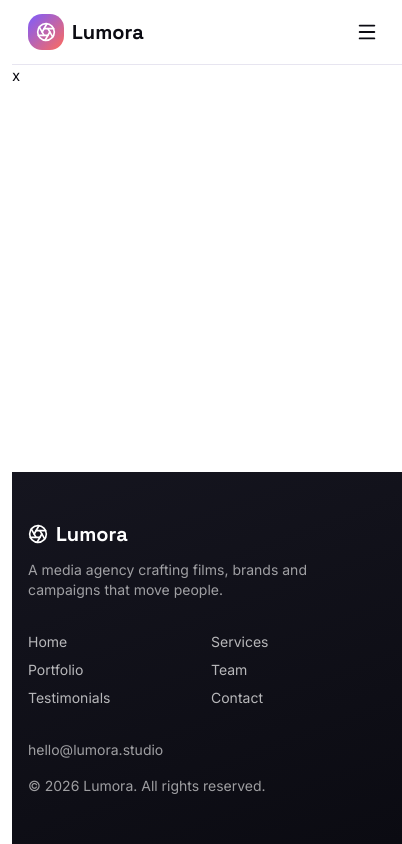
Test: AppLayout › toggles the mobile menu
Click the button named "Open menu" at (367, 32), box [348, 13, 386, 51]
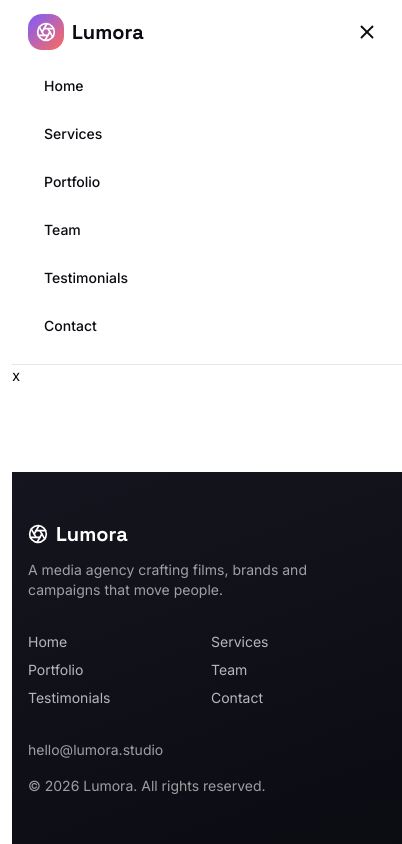
Expected: the list with test id "mobile-menu" is shown, [44, 77, 128, 334]
Click the button named "Close menu" at (367, 32), box [348, 13, 386, 51]
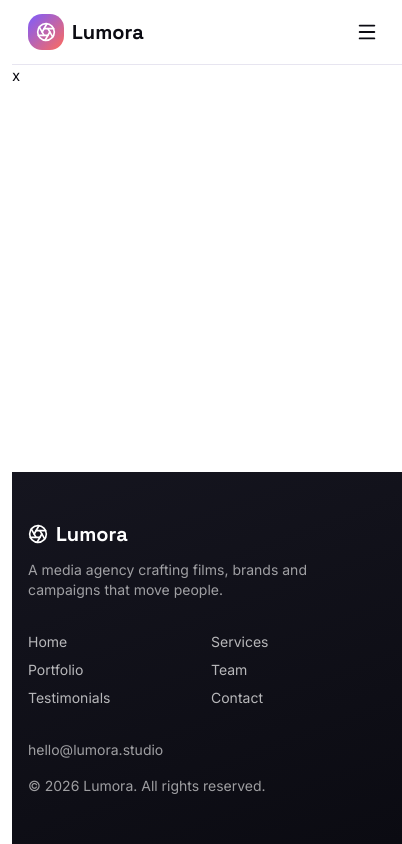
Expected: the list with test id "mobile-menu" is gone
